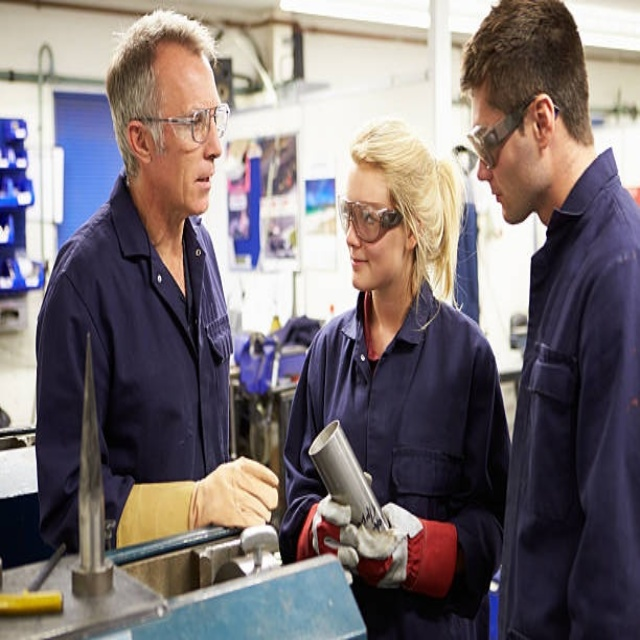Gafas: (468, 93, 539, 166), (136, 100, 232, 149), (337, 193, 401, 245)
Guantes: (113, 452, 281, 558), (316, 492, 417, 587)
Sin_mascara: (185, 157, 216, 212), (488, 177, 521, 224), (348, 245, 374, 289)
